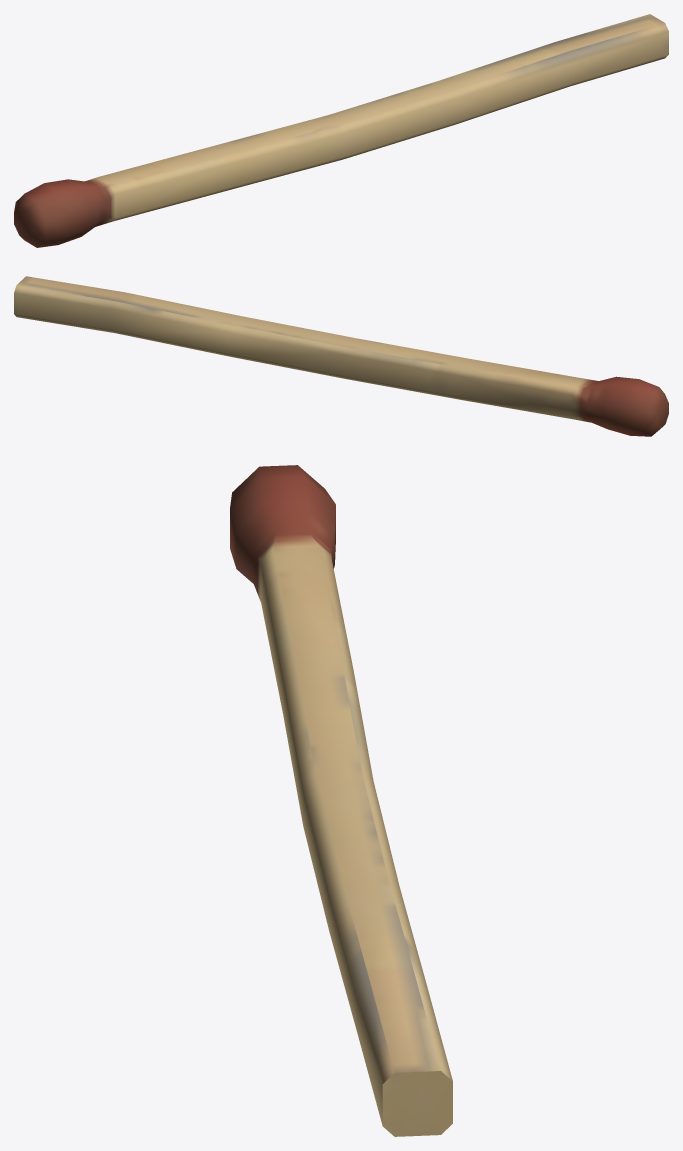
The model's file is Matchstick.fbx.
3 renders of one model, top to bottom at view 1: azimuth 30°, elevation 25°; view 2: azimuth 150°, elevation 25°; view 3: azimuth 270°, elevation 25°, orthographic. The views are drawn at different scales.
Parts seen in each view (by area): view 1: Matchstick_Low; view 2: Matchstick_Low; view 3: Matchstick_Low.
Part boxes in pixels (<box>): Matchstick_Low: <box>14,14,668,247</box>; Matchstick_Low: <box>14,276,668,436</box>; Matchstick_Low: <box>230,465,452,1136</box>.
Bounding box in the file's own units: 0.1393 × 0.0105 × 0.0221.
